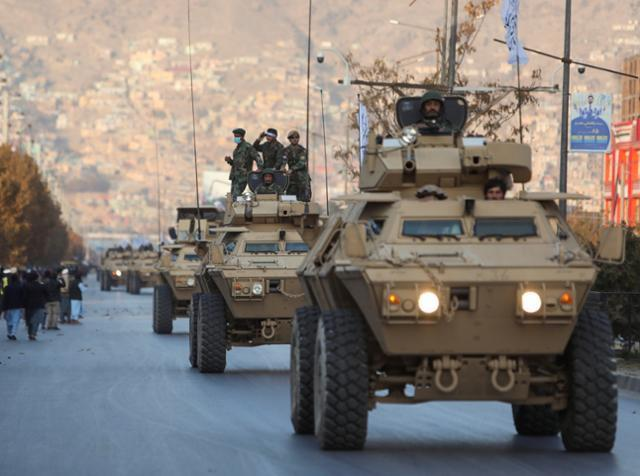MIL_IFV: (288, 90, 617, 452), (183, 169, 345, 374)
